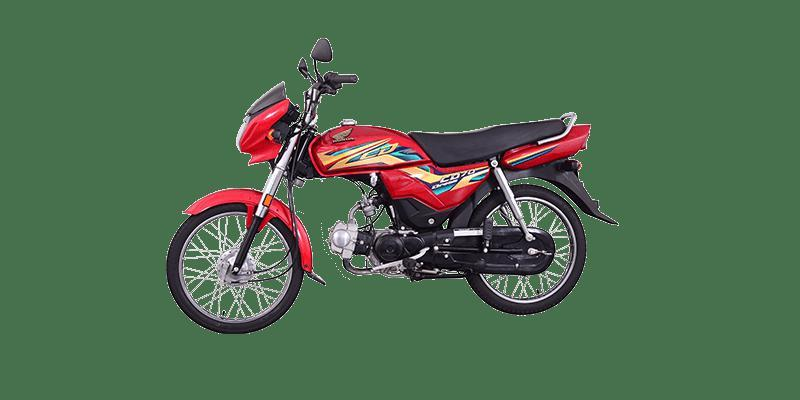bike: (162, 40, 628, 336)
